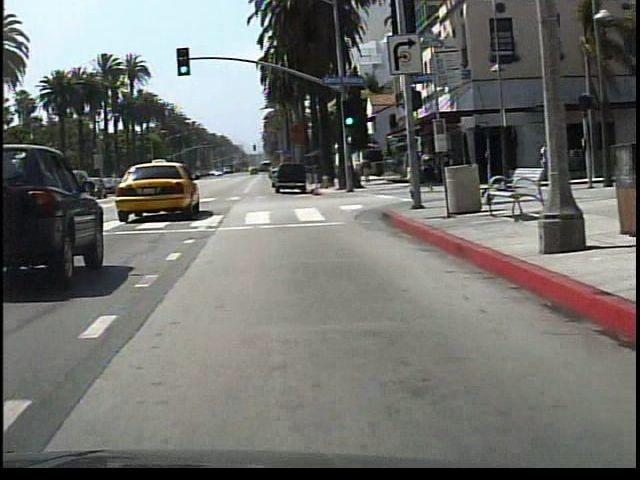person: (407, 146, 423, 197), (535, 140, 551, 182)
